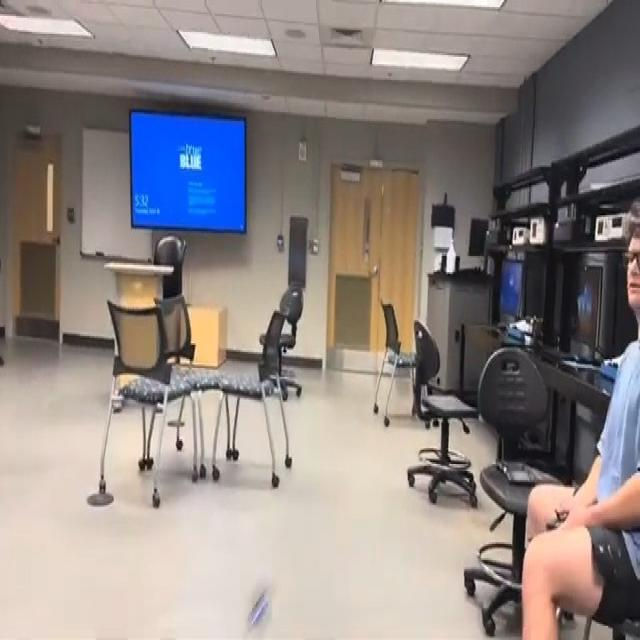drone: (231, 563, 279, 640)
